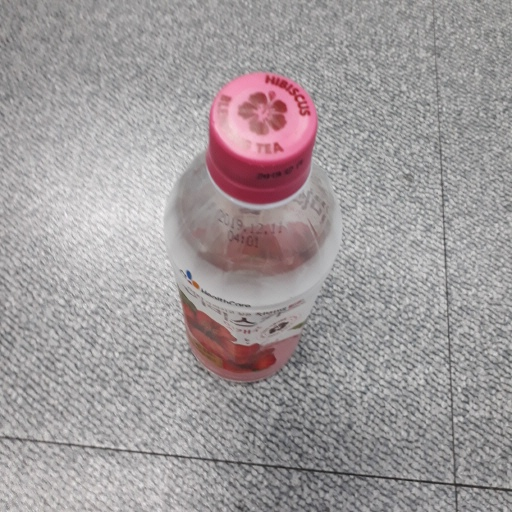Plastic_0: (164, 70, 339, 384)
